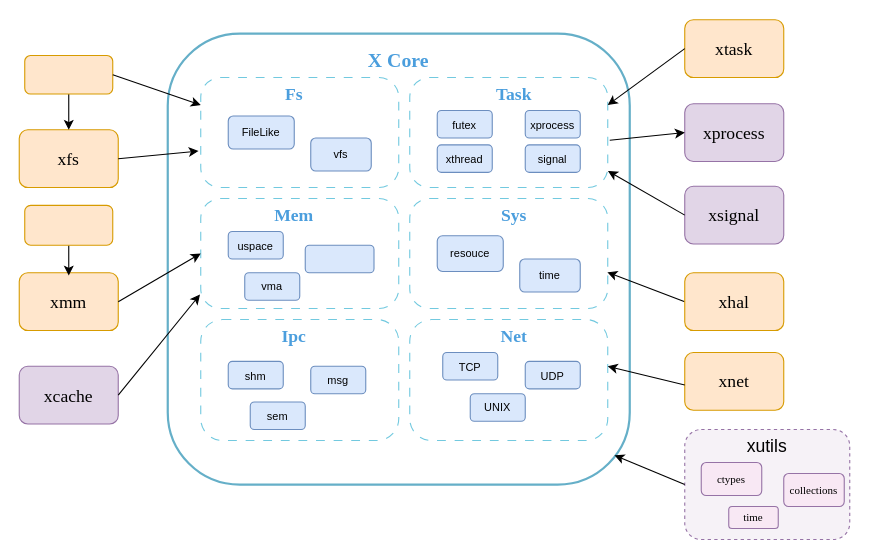
The diagram is 869 pixels wide and 559 high, and some of its shapes have lost their labels. The shapes that lost their labels are listed below. From the top down, each one's centre as x and y in pixels, then its label:
At point (68, 74): "xvfs".
At point (68, 224): "xalloc".
At point (339, 258): "page_cache".
